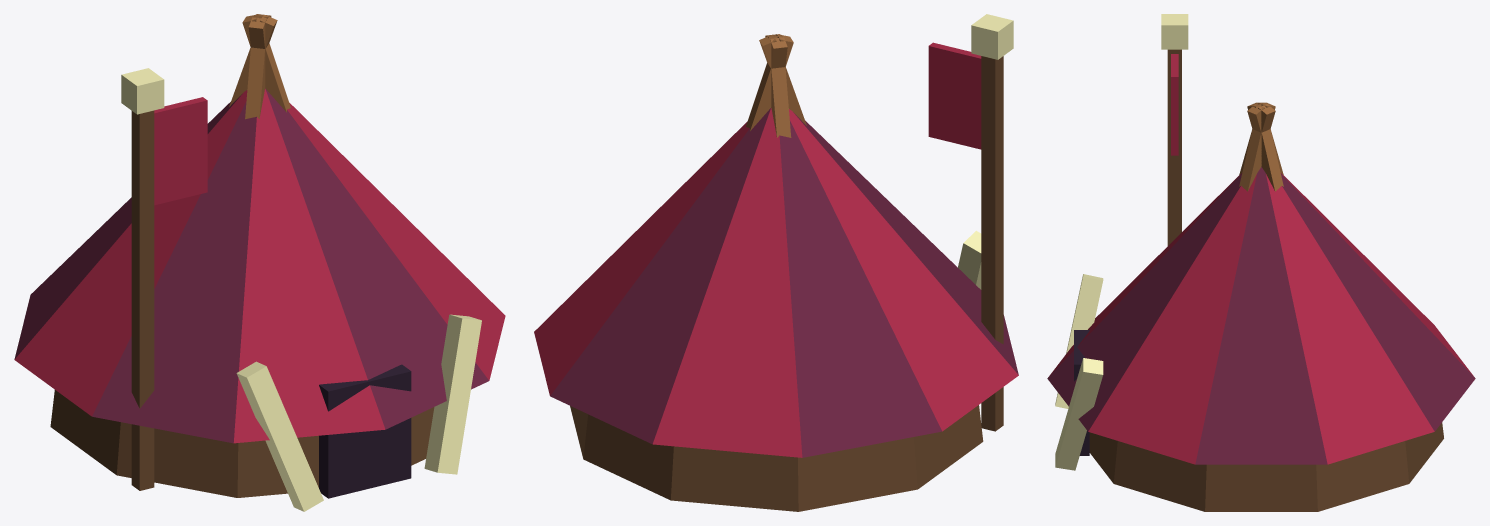
Rendered from warcamp.glb.
3 renders of one model, left to right at view 1: azimuth 30°, elevation 25°; view 2: azimuth 150°, elevation 25°; view 3: azimuth 270°, elevation 25°, orthographic. The views are drawn at different scales.
Parts seen in each view (by area): view 1: Model; view 2: Model; view 3: Model.
Boxes of the visible parts, x1,y1,x2,y2 form: Model: [14, 14, 505, 511]; Model: [534, 14, 1018, 511]; Model: [1047, 14, 1475, 511].
Size of the model in its own units: 2.59 by 2.45 by 2.72.
